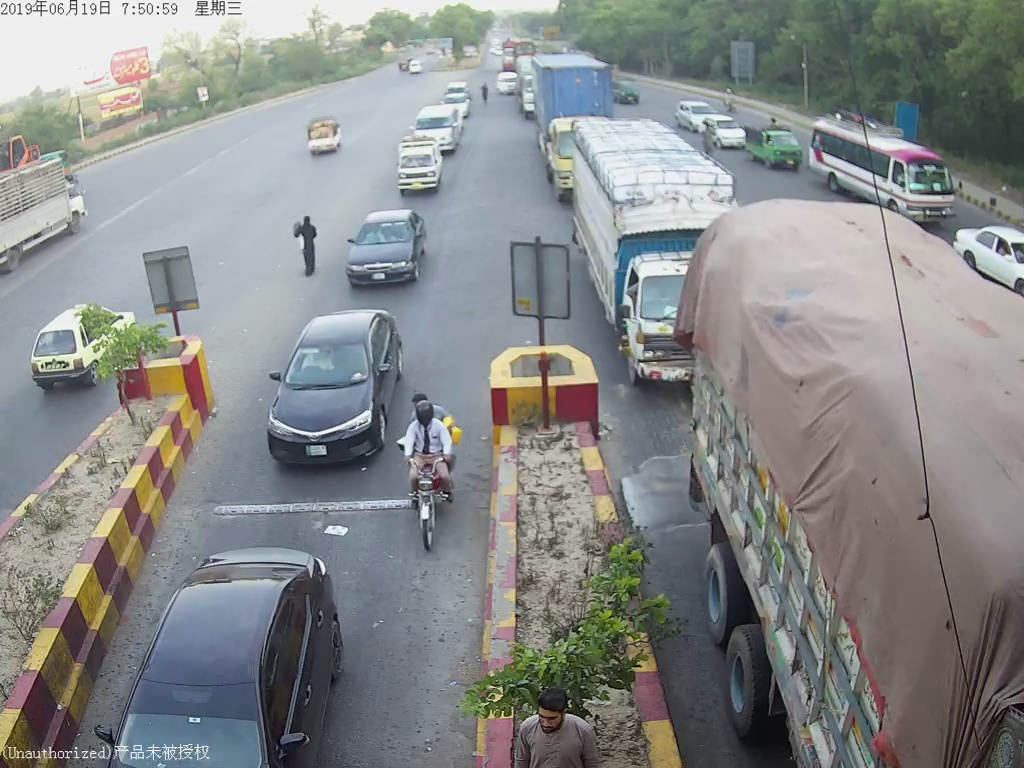Cat-1: (265, 299, 397, 467), (343, 210, 429, 291), (388, 140, 444, 190)
Cat-4: (567, 108, 733, 393)
